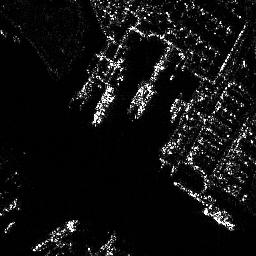ship: (31, 218, 79, 253), (203, 207, 235, 232), (94, 91, 114, 125), (135, 88, 155, 119)
